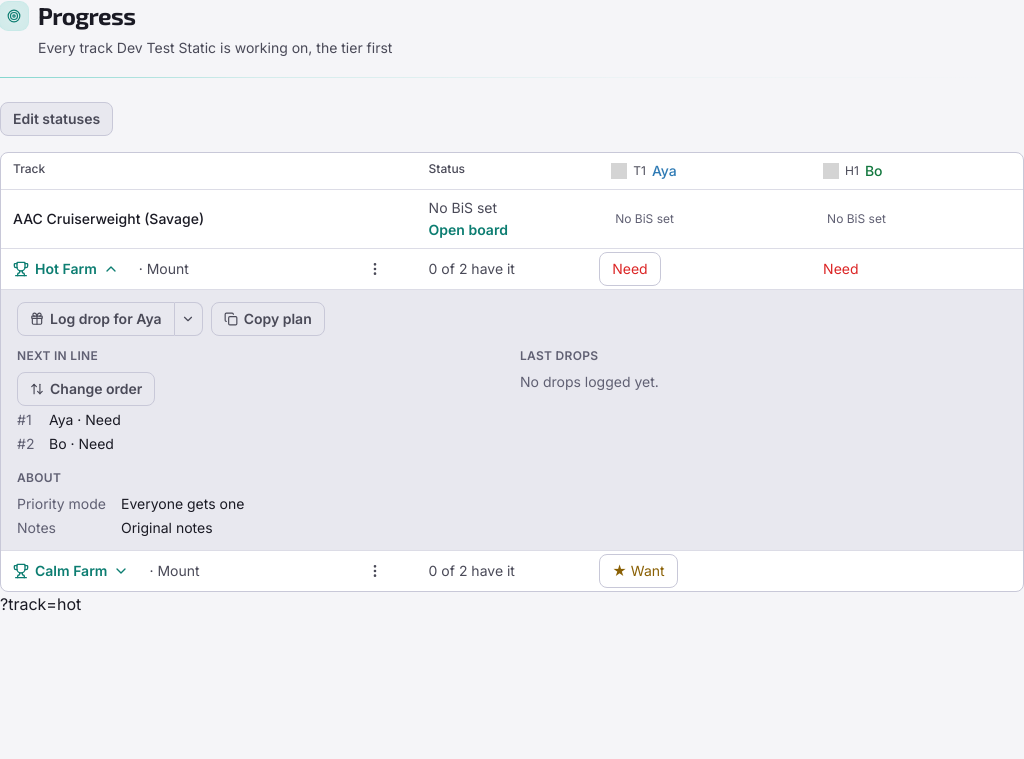
Test: Save and Cancel › Cancel discards without asking and returns focus to the menu button
Expected: the row with test id "progress-expansion" is shown, top-left (1, 290), bottom-right (1023, 550)
Click the button named "Actions for Hot Farm".
click(375, 269)  # box top-left (361, 255), bottom-right (389, 283)
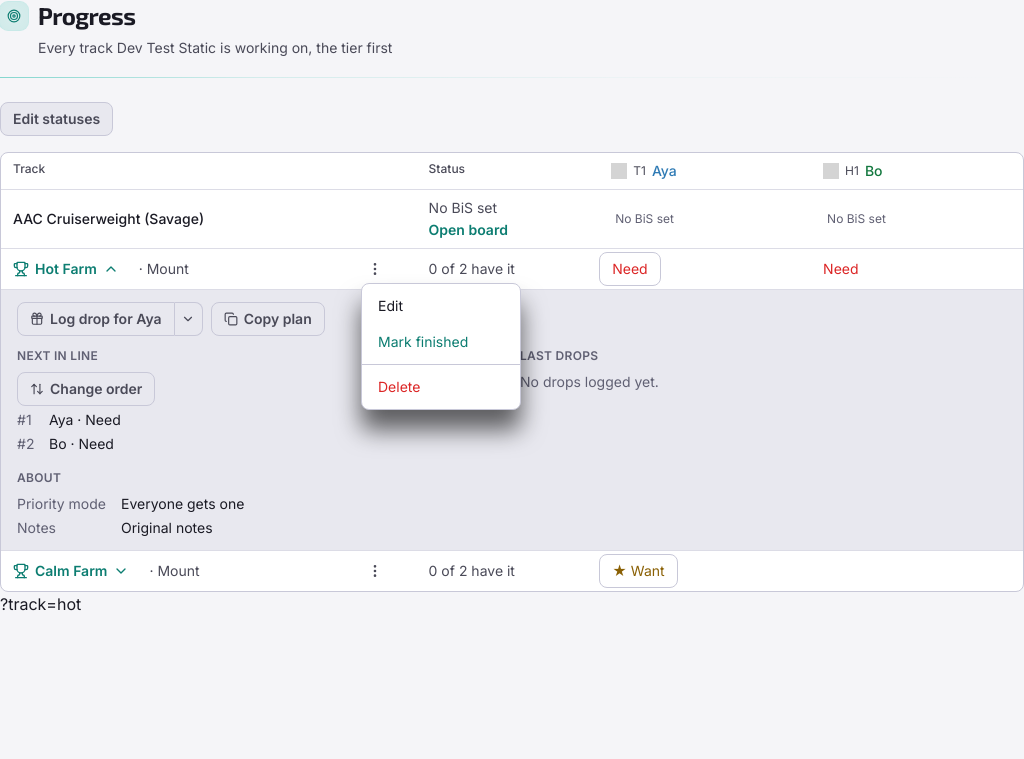
Click the menu item "Edit".
click(441, 306)  # box top-left (362, 288), bottom-right (520, 324)
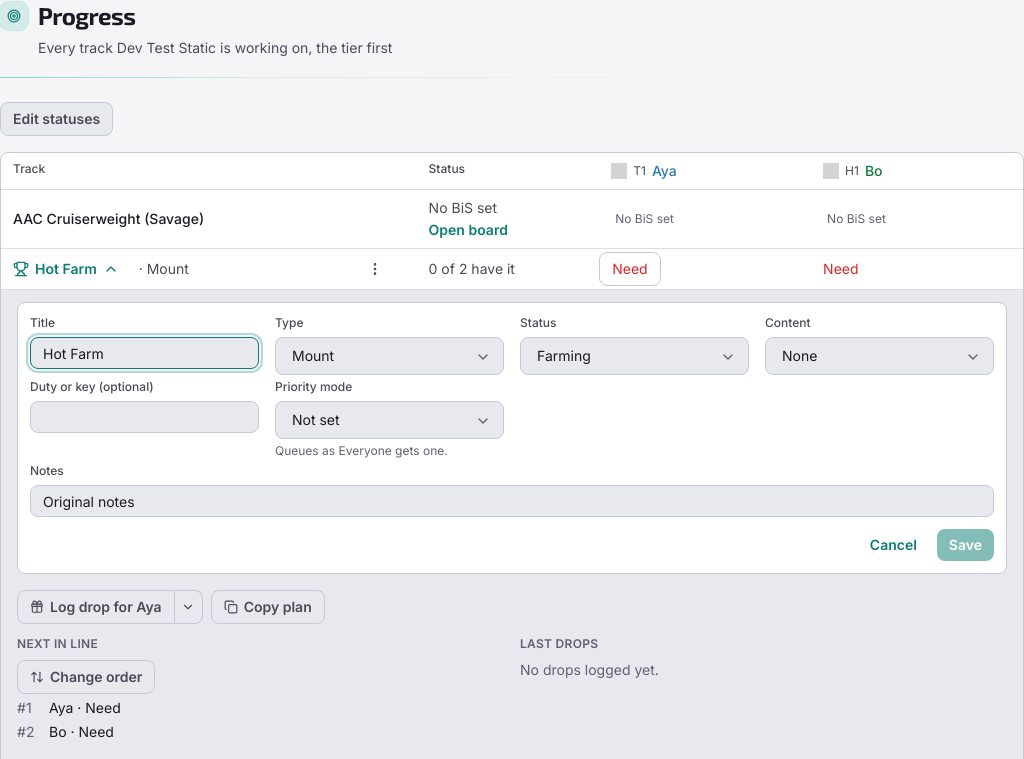
Expected: the form with test id "progress-edit-block" is shown, top-left (17, 302), bottom-right (1007, 574)
Replace the text in the field labelled "Notes" with "Edited notes" at (512, 501), box top-left (30, 485), bottom-right (994, 517)
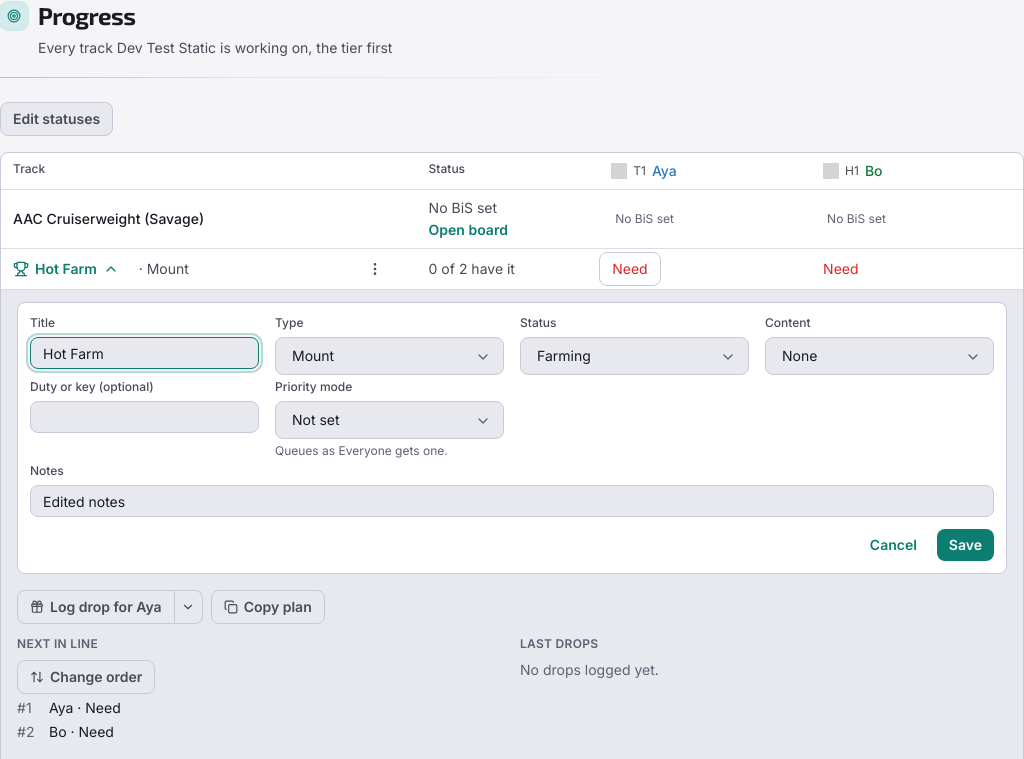
Click the button "Cancel".
click(893, 545)  # box top-left (858, 529), bottom-right (929, 561)
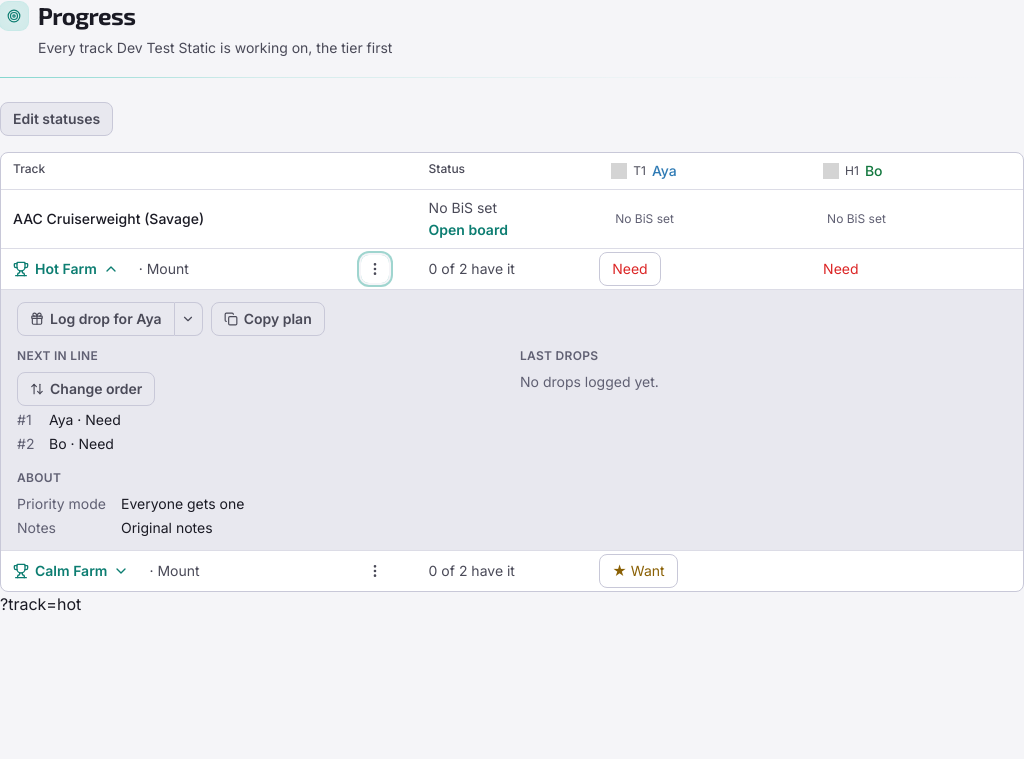
Expected: the row with test id "progress-expansion" is shown, top-left (1, 290), bottom-right (1023, 550)
Expected: the form with test id "progress-edit-block" is gone
